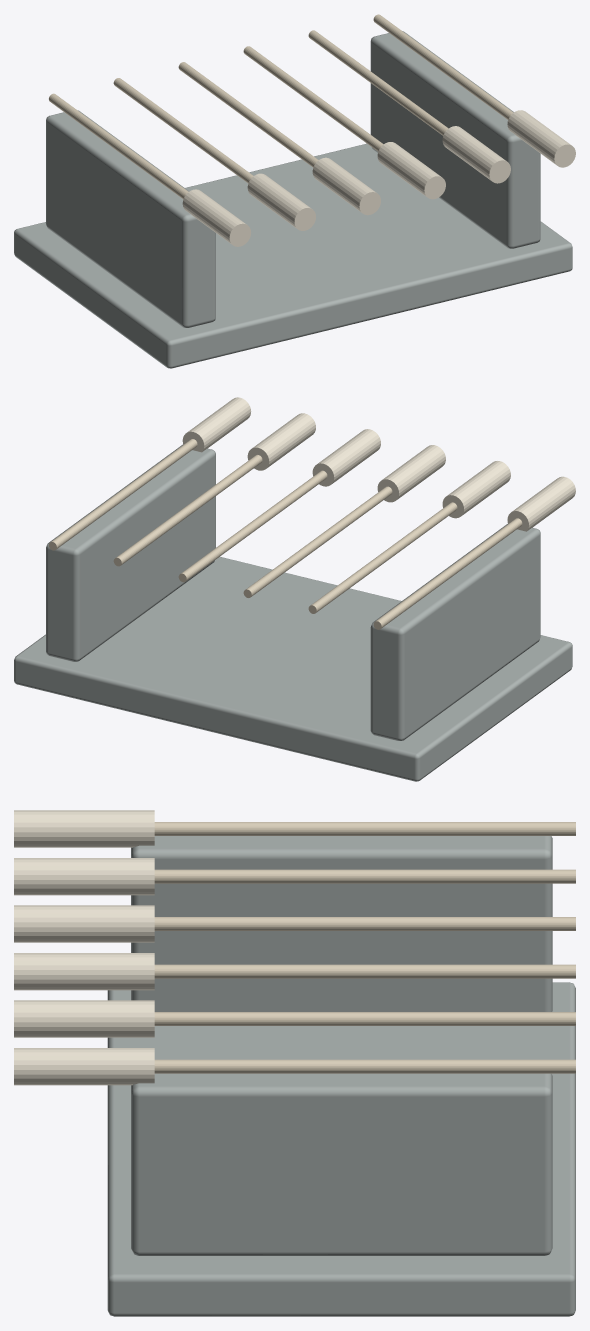
Rendered from museum-conservation-and-art-restoration-museum-conserv-6c8cfe12__31899.glb.
The picture shows the model from 3 angles, top to bottom: view 1: azimuth 30°, elevation 25°; view 2: azimuth 150°, elevation 25°; view 3: azimuth 270°, elevation 25°; orthographic projection. The views are drawn at different scales.
Visible parts, largest first — view 1: museum-conservation-and-art-restoration-swab-preparation-rac (×3); view 2: museum-conservation-and-art-restoration-swab-preparation-rac (×3); view 3: museum-conservation-and-art-restoration-swab-preparation-rac (×3).
Boxes of the visible parts, x1,y1,x2,y2 form: museum-conservation-and-art-restoration-swab-preparation-rac (×3): [14, 14, 575, 368]; museum-conservation-and-art-restoration-swab-preparation-rac (×3): [14, 397, 575, 781]; museum-conservation-and-art-restoration-swab-preparation-rac (×3): [14, 810, 575, 1316].
Bounding box in the file's own units: 0.3 × 0.113 × 0.24.
